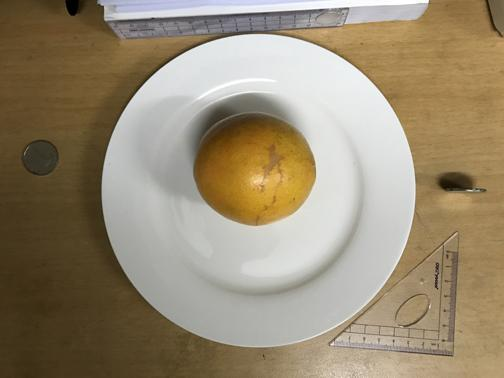coin: (22, 139, 58, 176)
orange: (194, 115, 318, 226)
